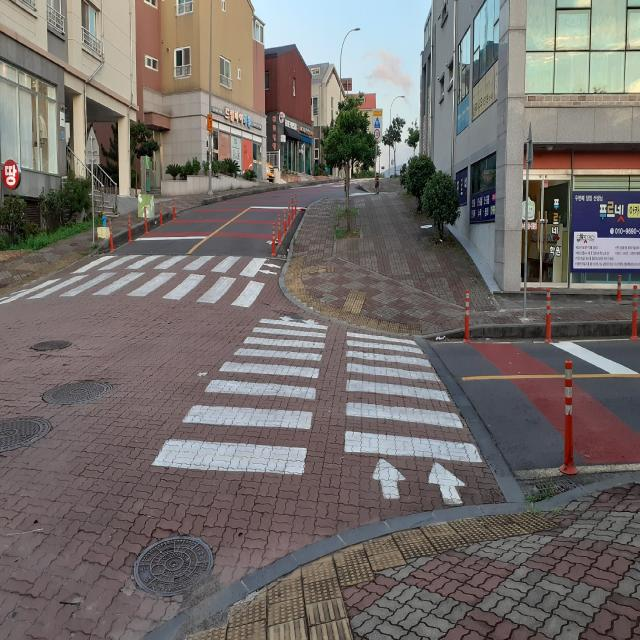횡단보도: (150, 310, 486, 510), (0, 242, 293, 307)
